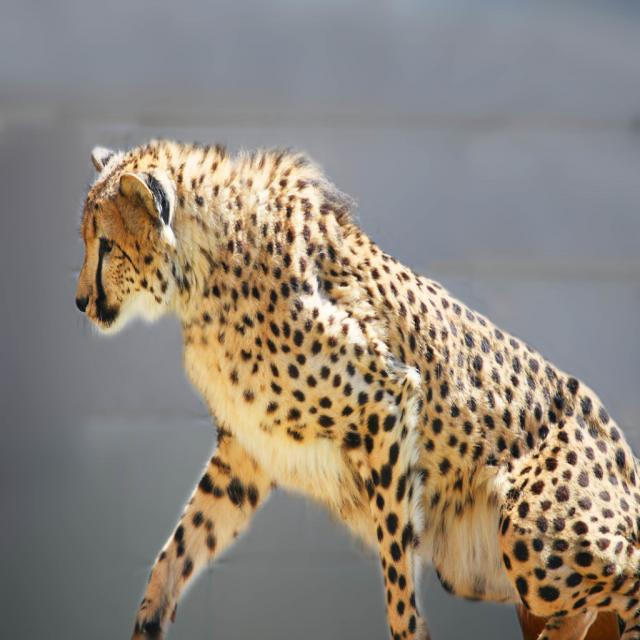Cheetah: (73, 138, 640, 640)
